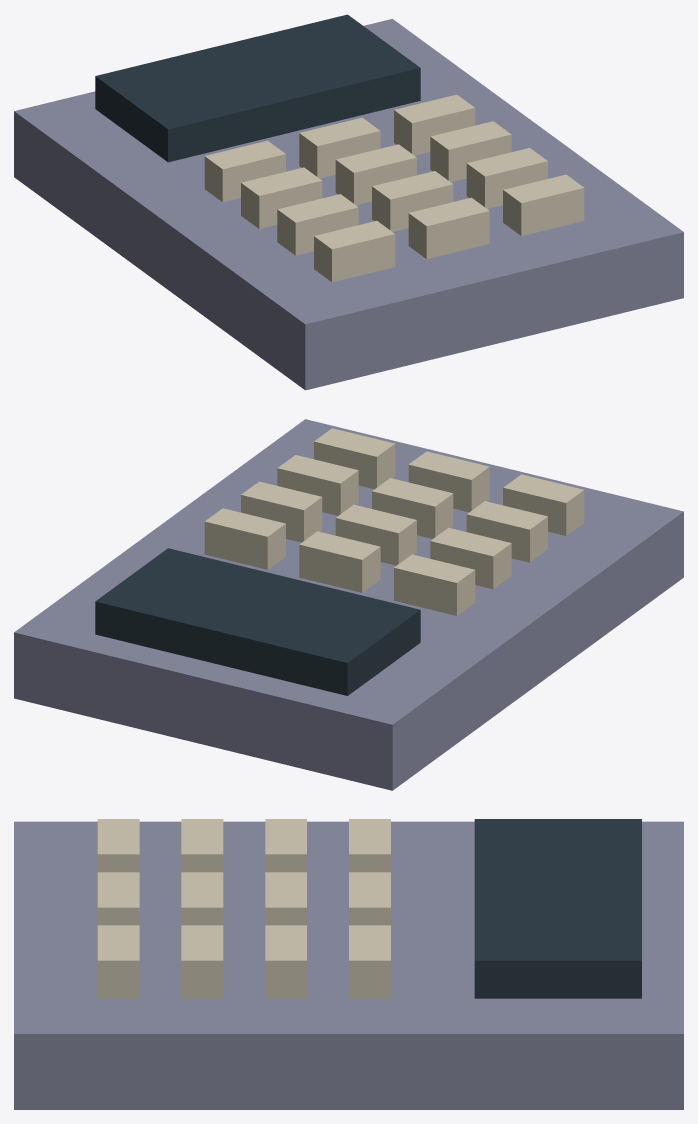
Rendered from mathematics-05.glb.
3 views of the same model, one above another, from view 1: azimuth 30°, elevation 25°; view 2: azimuth 150°, elevation 25°; view 3: azimuth 270°, elevation 25° (orthographic). The views are drawn at different scales.
Visible parts, largest first — view 1: Calculator; view 2: Calculator; view 3: Calculator.
Boxes of the visible parts, x1,y1,x2,y2 form: Calculator: (14,14,683,390); Calculator: (14,419,683,790); Calculator: (14,819,683,1109).
Size of the model in its own units: 0.96 by 0.24 by 1.28.
